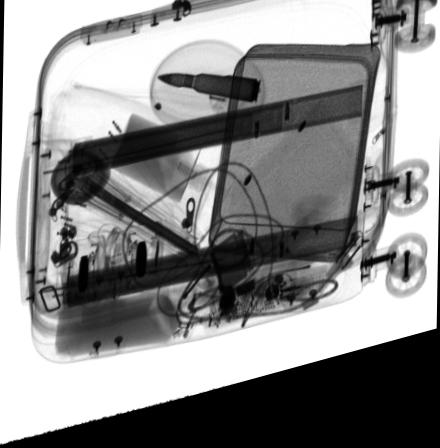Bullet: (156, 82, 260, 116)
